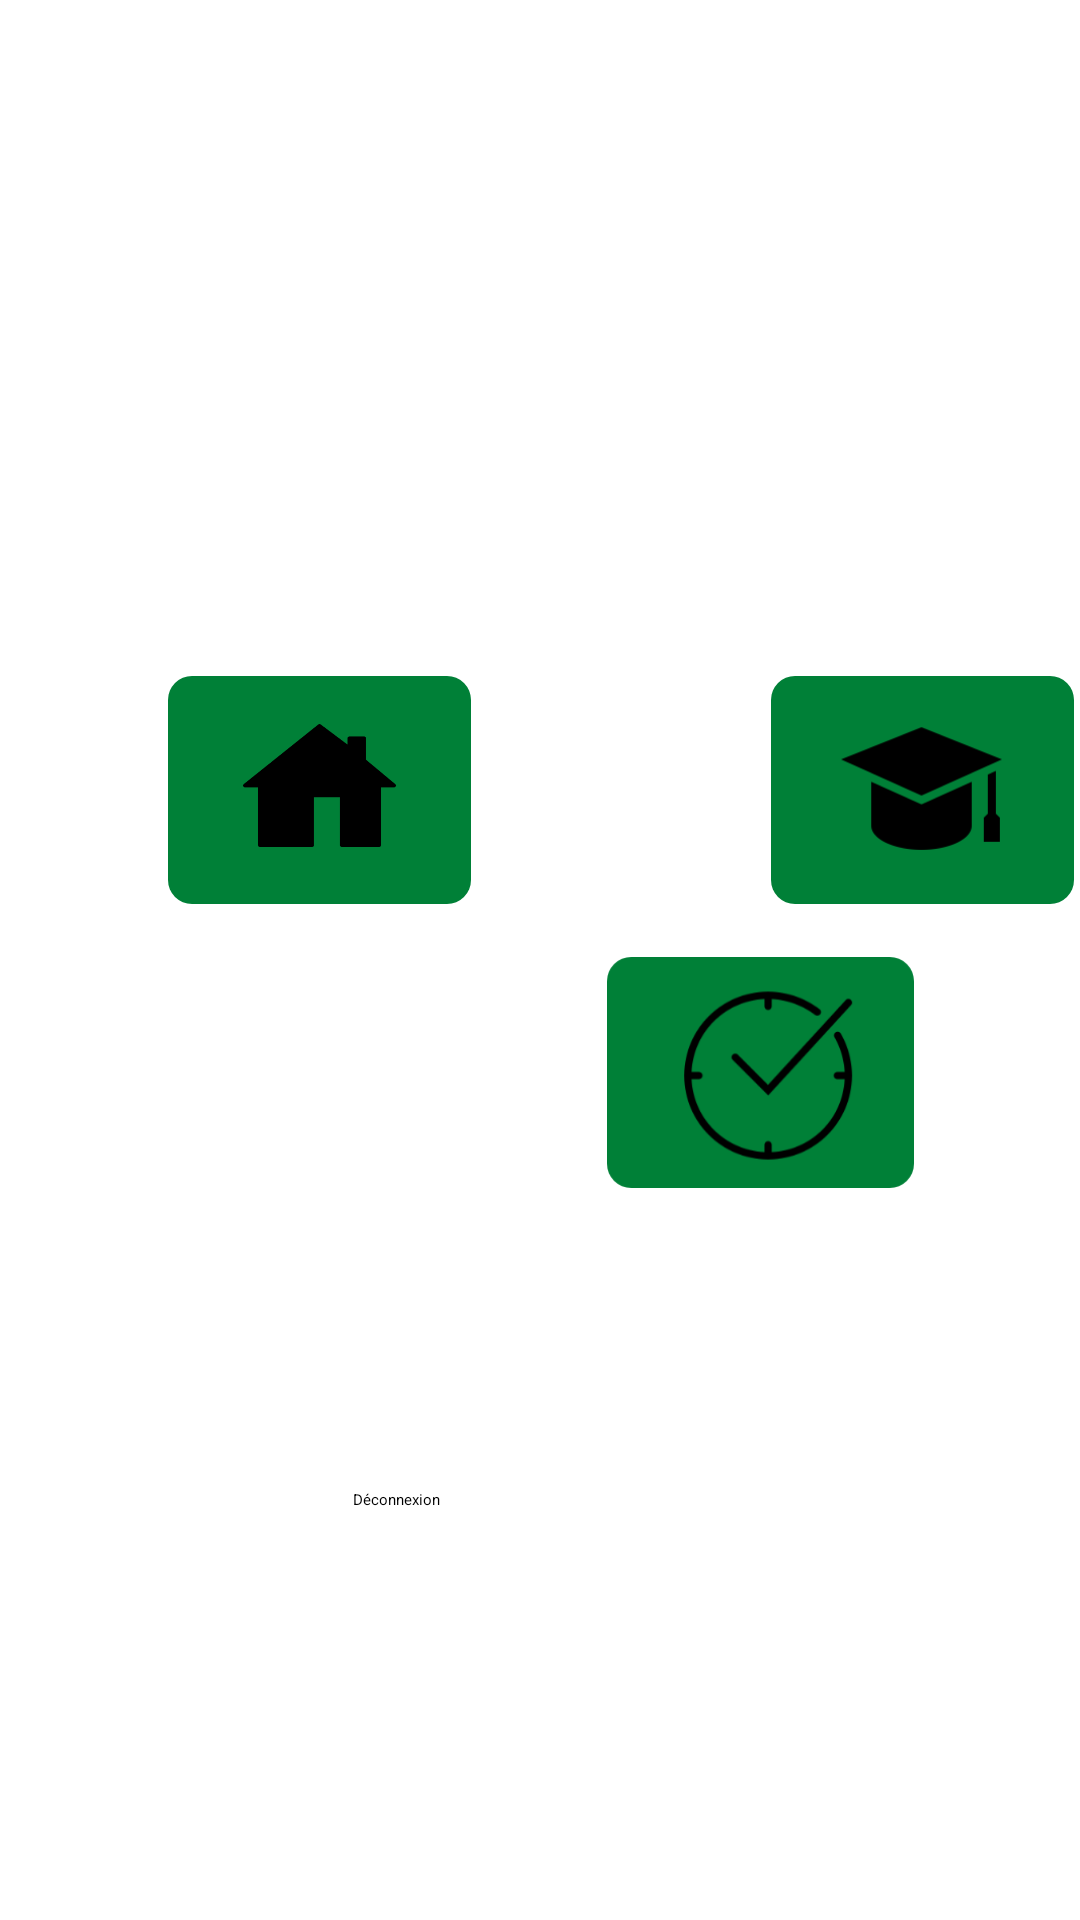

Point at icon controls on the screen. Image size 1080*1920, points as (x=x, y=y).
house: (x=319, y=790)
school: (x=922, y=790)
squarerealtime: (x=760, y=1072)
